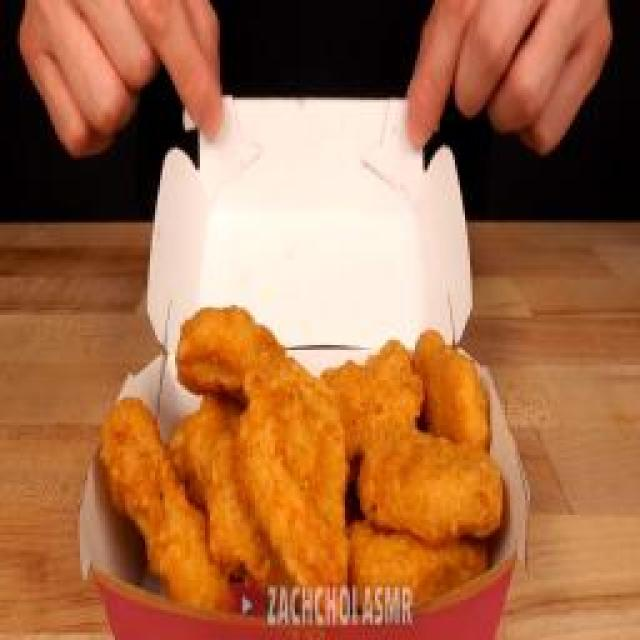Wet Waste: (75, 265, 533, 615)
